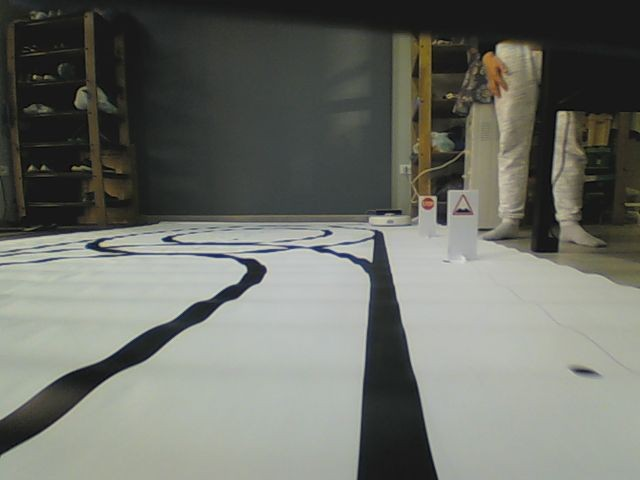Nerov: (452, 193, 475, 216)
